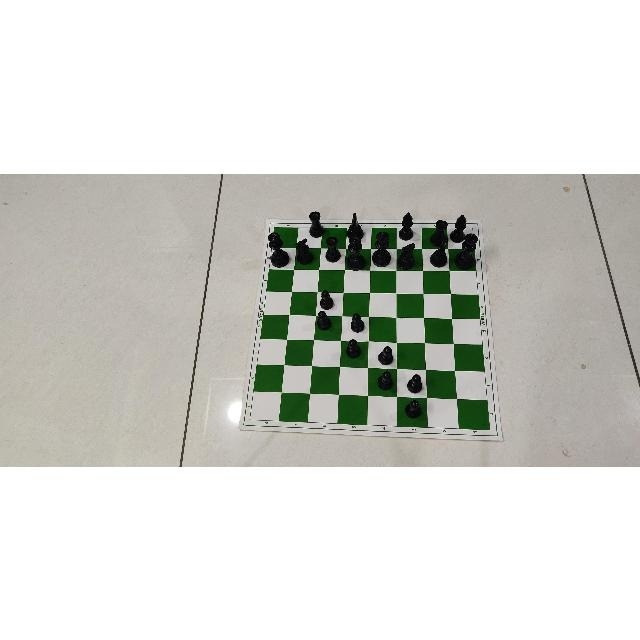black-bishop: (398, 211, 414, 239), (451, 214, 467, 240)
black-king: (453, 233, 478, 269), (371, 231, 391, 267)
black-knight: (294, 237, 316, 265), (429, 238, 448, 268), (397, 241, 417, 269), (346, 211, 363, 237)
black-pawn: (316, 309, 334, 331), (318, 287, 334, 310)
black-queen: (266, 231, 290, 267), (346, 235, 366, 270)
black-rook: (324, 235, 341, 263), (308, 210, 323, 237)
